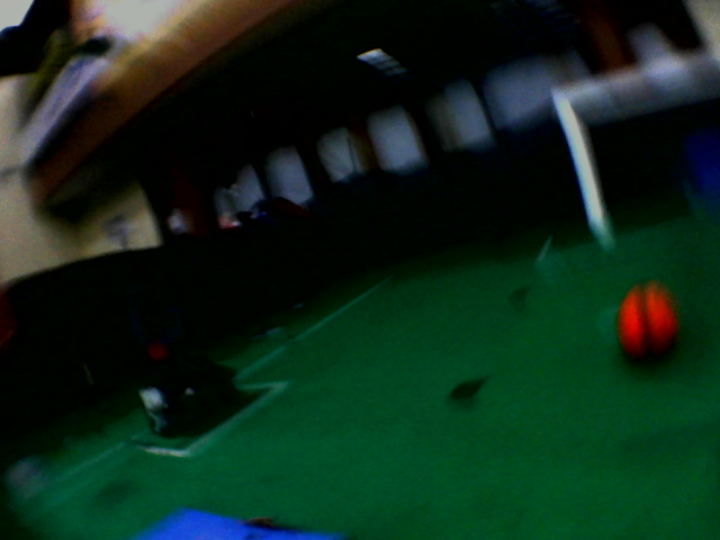bola: (613, 279, 680, 362)
